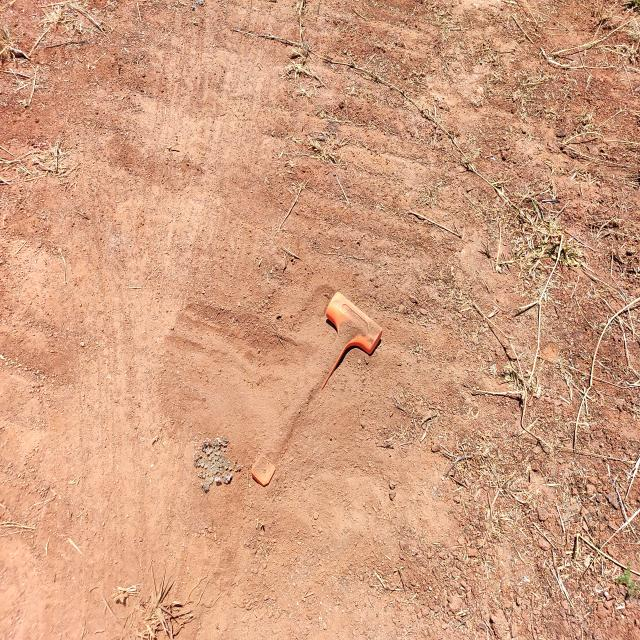Orange_hammer: (251, 288, 384, 491)
